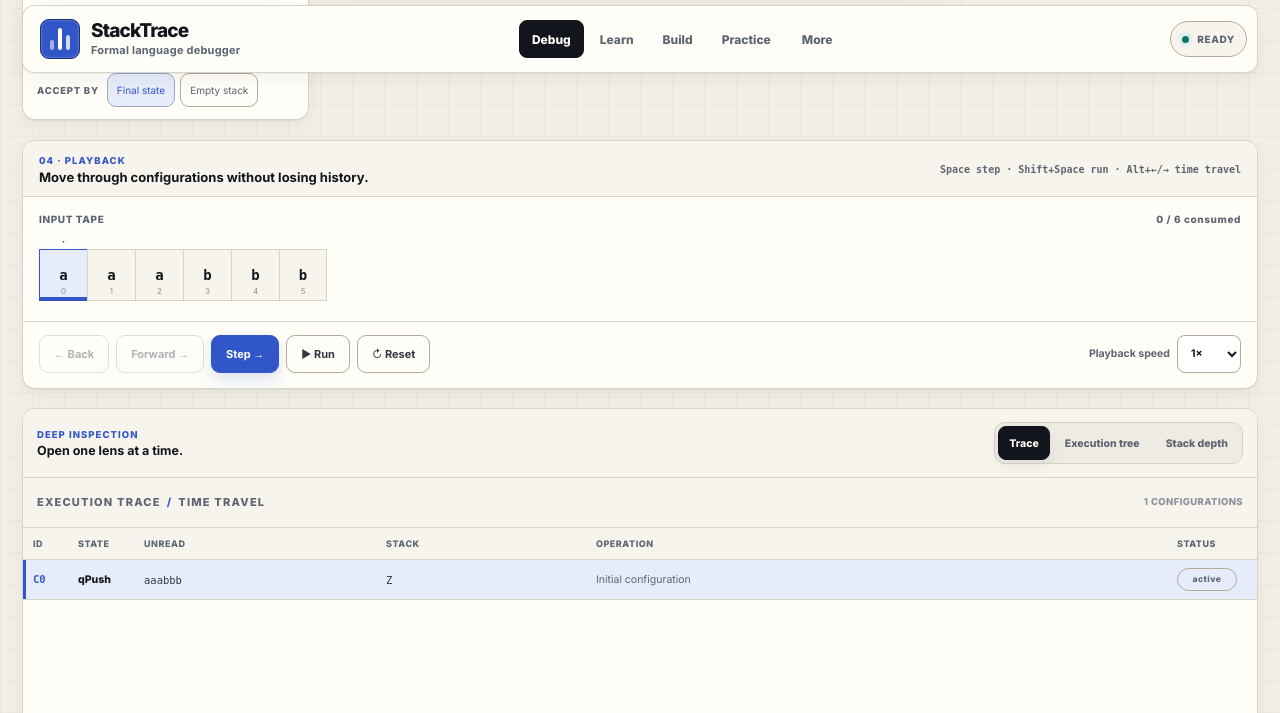
Test: StackTrace app integration › keeps future configurations when moving Back and Forward
(page scrolled)
Expected: the button "← Back" is disabled, [39, 334, 109, 372]
Expected: the button "Forward →" is disabled, [116, 334, 204, 372]
Click the button "Step →": (245, 354) [211, 334, 279, 372]
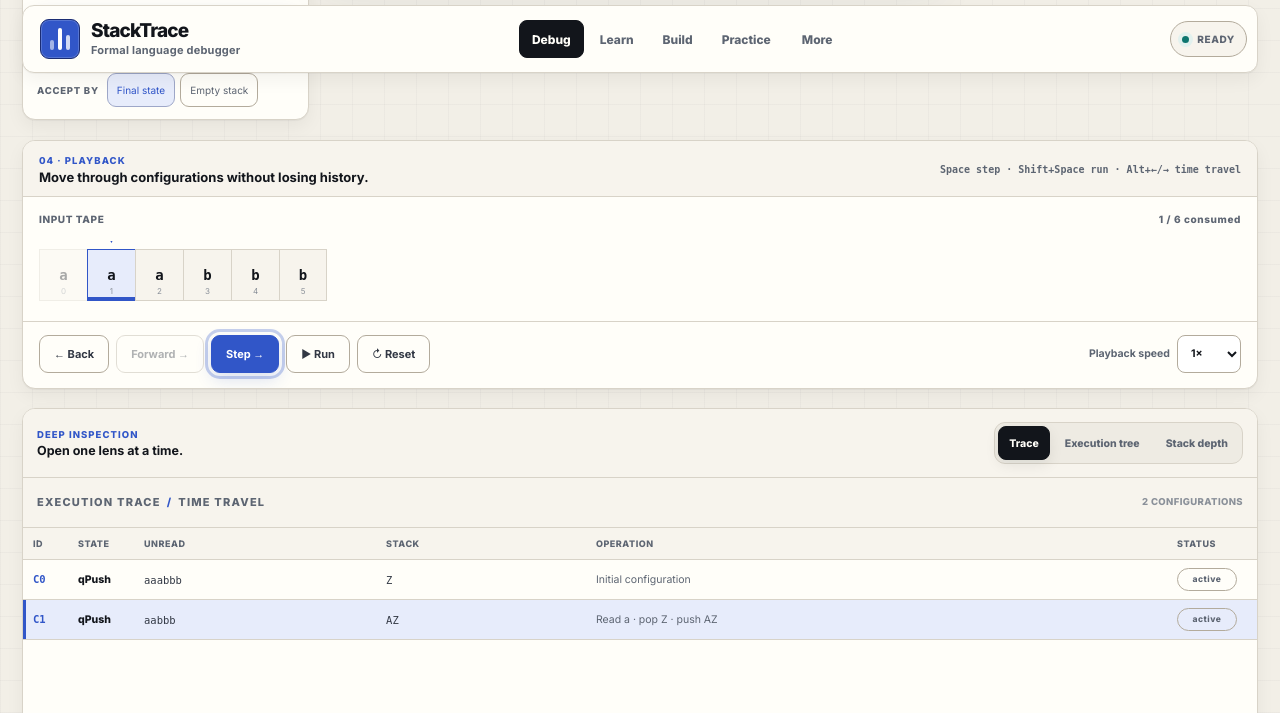
Result: the button "← Back" is enabled
Click the button "← Back": (74, 354) [39, 334, 109, 372]
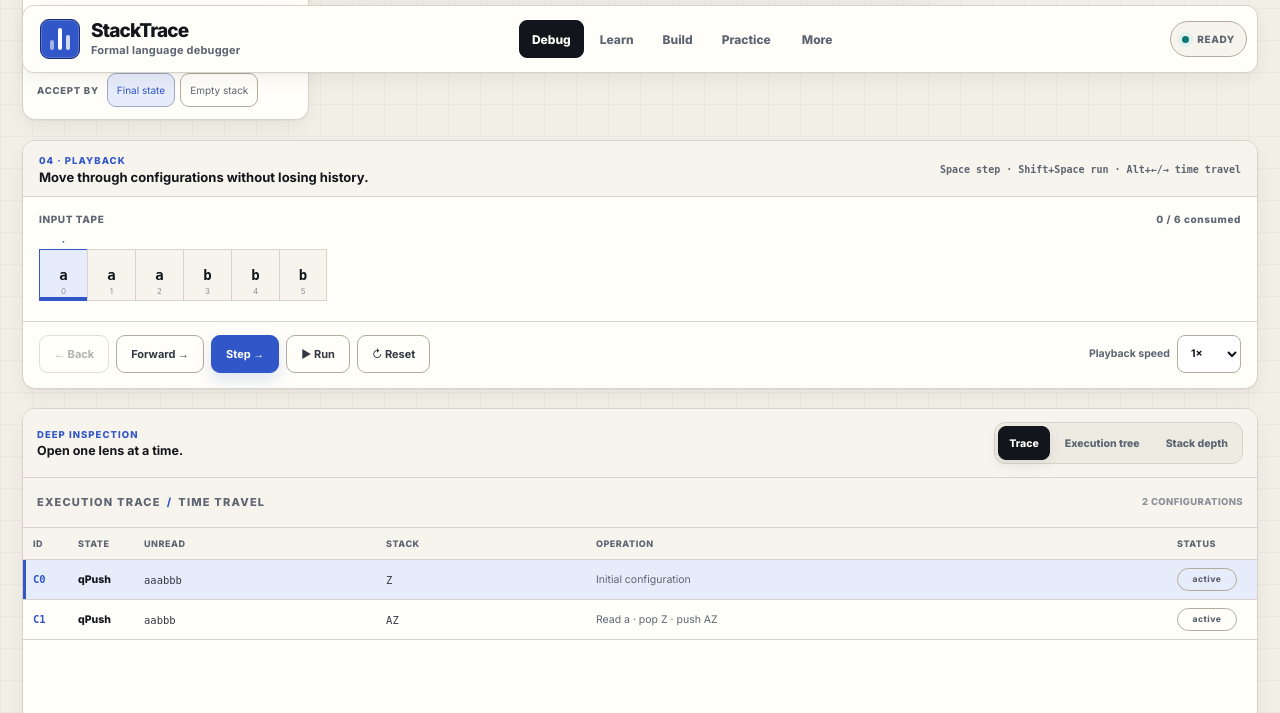
Result: the button "Forward →" is enabled
Click the button "Forward →": (160, 354) [116, 334, 204, 372]
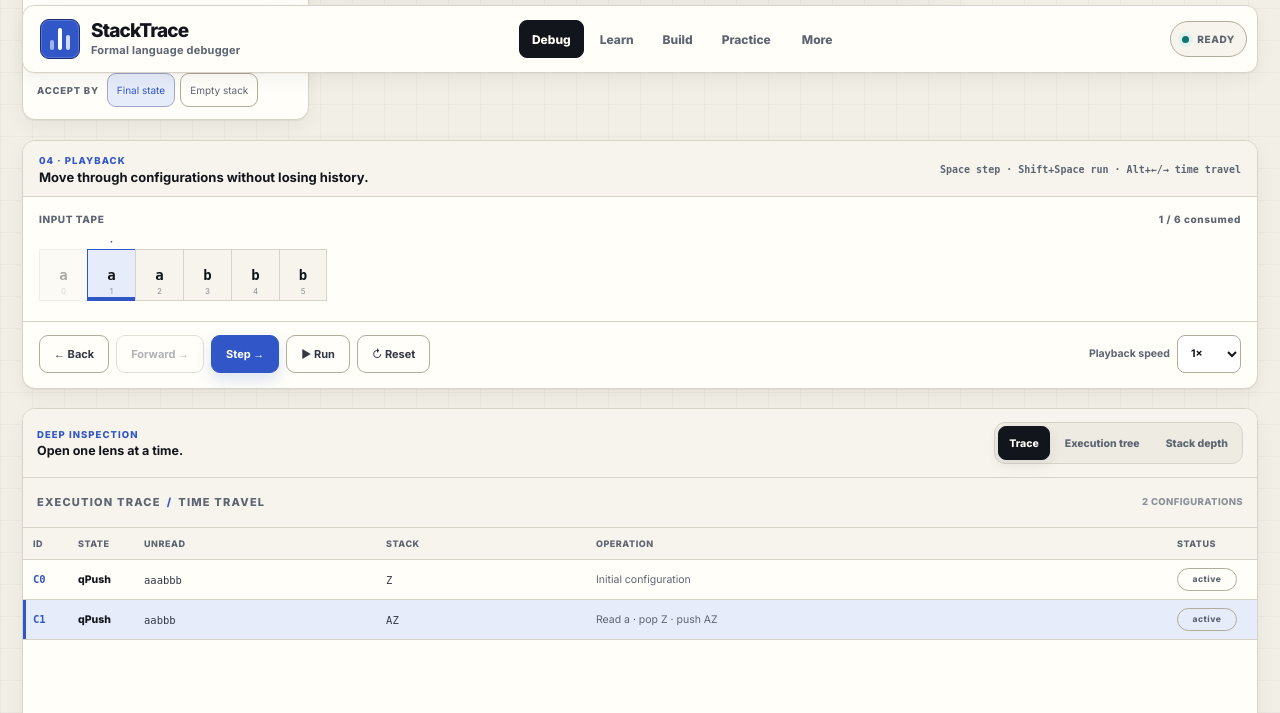
Result: the button "Forward →" is disabled at [116, 334, 204, 372]
Result: the button "← Back" is enabled at [39, 334, 109, 372]
